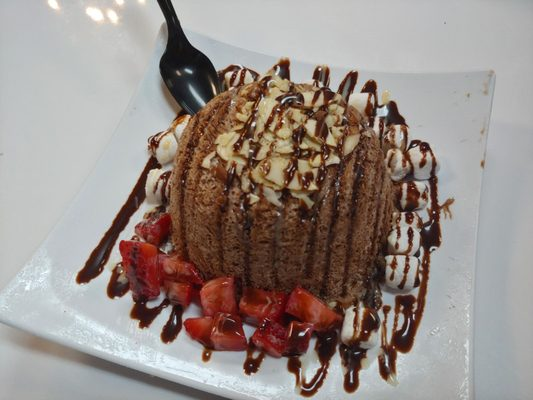burger: (156, 0, 221, 117)
soup: (102, 59, 417, 396)
